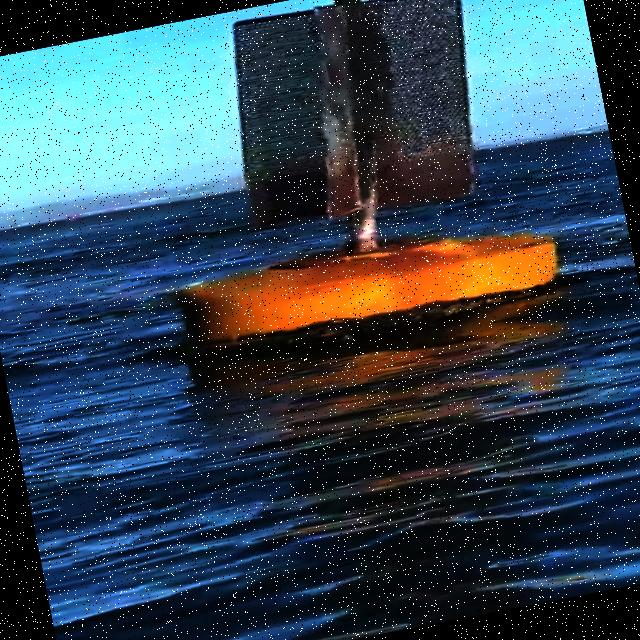marque: (124, 1, 572, 380)
